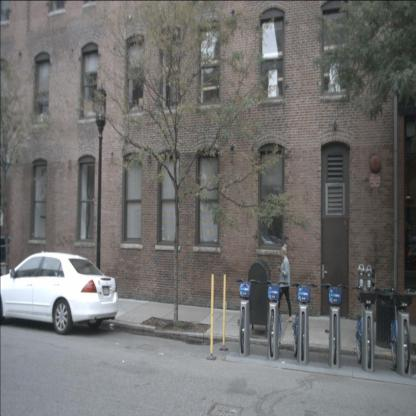human-pedestrian-adult: (274, 244, 292, 322)
vehicle-car: (0, 250, 119, 335)
